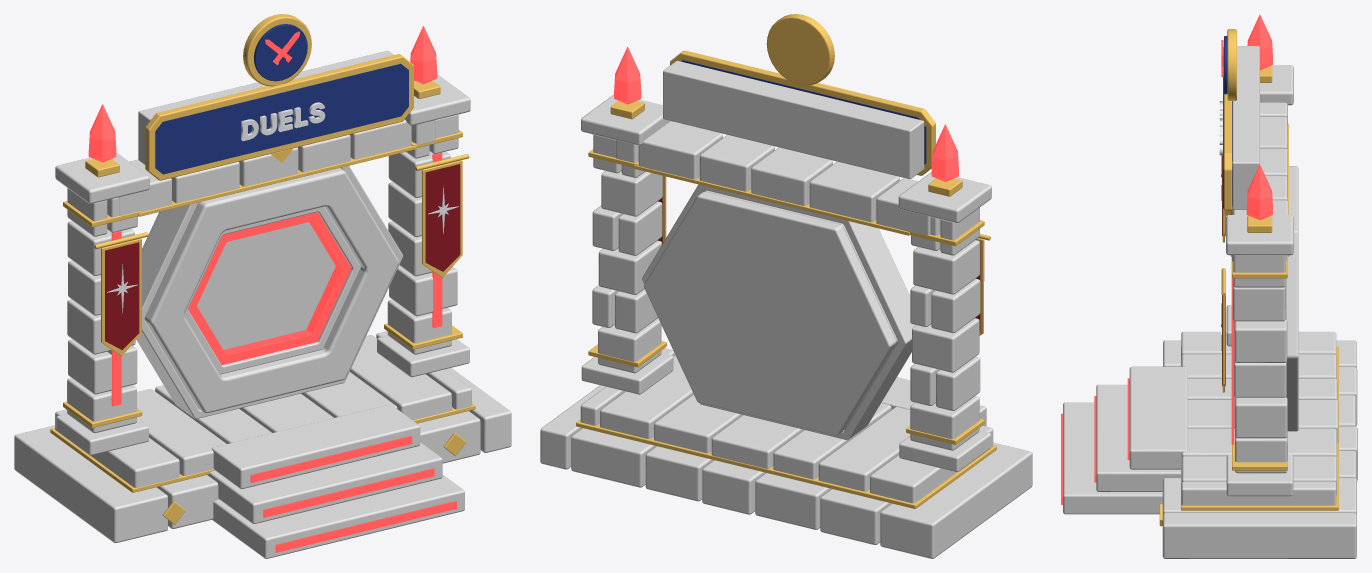
Rendered from Lobby_PORTAL_Duels.fbx.
The picture shows the model from 3 angles, left to right: view 1: azimuth 30°, elevation 25°; view 2: azimuth 150°, elevation 25°; view 3: azimuth 270°, elevation 25°; orthographic projection. The views are drawn at different scales.
Visible parts, largest first — view 1: Lobby_PORTAL_Duels__Marble, Lobby_PORTAL_Duels__MarbleShade, Lobby_PORTAL_Duels__Gold, Lobby_PORTAL_Duels__NavyCloth, Lobby_PORTAL_Duels__PortalSwirlDuels, Lobby_PORTAL_Duels__NeonDuels, Lobby_PORTAL_Duels__DuelsBannerCloth, Lobby_PORTAL_Duels__CrystalDuels, Lobby_PORTAL_Duels__WhiteEmblem; view 2: Lobby_PORTAL_Duels__Marble, Lobby_PORTAL_Duels__MarbleShade, Lobby_PORTAL_Duels__Gold, Lobby_PORTAL_Duels__CrystalDuels, Lobby_PORTAL_Duels__NavyCloth; view 3: Lobby_PORTAL_Duels__Marble, Lobby_PORTAL_Duels__MarbleShade, Lobby_PORTAL_Duels__Gold, Lobby_PORTAL_Duels__CrystalDuels, Lobby_PORTAL_Duels__NeonDuels, Lobby_PORTAL_Duels__NavyCloth.
Boxes of the visible parts, x1,y1,x2,y2 form: Lobby_PORTAL_Duels__Marble: (55, 50, 471, 558); Lobby_PORTAL_Duels__MarbleShade: (14, 166, 511, 543); Lobby_PORTAL_Duels__Gold: (50, 14, 475, 524); Lobby_PORTAL_Duels__NavyCloth: (155, 24, 408, 174); Lobby_PORTAL_Duels__PortalSwirlDuels: (197, 222, 335, 349); Lobby_PORTAL_Duels__NeonDuels: (111, 31, 456, 552); Lobby_PORTAL_Duels__DuelsBannerCloth: (105, 164, 460, 349); Lobby_PORTAL_Duels__CrystalDuels: (88, 26, 437, 162); Lobby_PORTAL_Duels__WhiteEmblem: (107, 102, 458, 313); Lobby_PORTAL_Duels__Marble: (580, 61, 993, 503); Lobby_PORTAL_Duels__MarbleShade: (540, 184, 1032, 558); Lobby_PORTAL_Duels__Gold: (576, 14, 996, 508); Lobby_PORTAL_Duels__CrystalDuels: (614, 46, 958, 181); Lobby_PORTAL_Duels__NavyCloth: (681, 60, 926, 164); Lobby_PORTAL_Duels__Marble: (1063, 46, 1338, 514); Lobby_PORTAL_Duels__MarbleShade: (1162, 166, 1357, 558); Lobby_PORTAL_Duels__Gold: (1159, 29, 1338, 526); Lobby_PORTAL_Duels__CrystalDuels: (1246, 14, 1272, 220); Lobby_PORTAL_Duels__NeonDuels: (1061, 40, 1234, 504); Lobby_PORTAL_Duels__NavyCloth: (1223, 36, 1232, 208).
Size of the model in its own units: 15.88 by 17.35 by 10.7.
